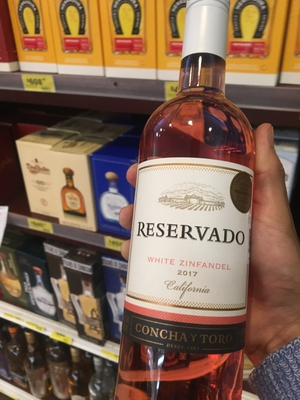reservado white zinfandel: (121, 16, 261, 400)
